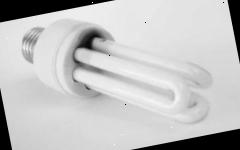lightbulb: (17, 0, 220, 150), (17, 8, 125, 108)
